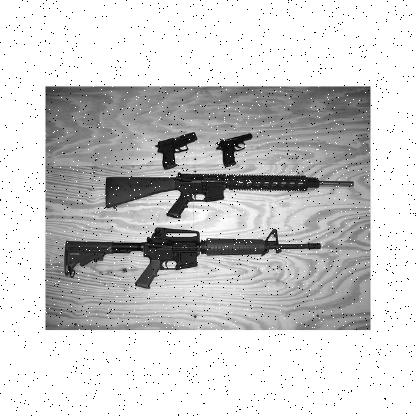gun: (154, 130, 198, 168), (215, 132, 253, 166)
